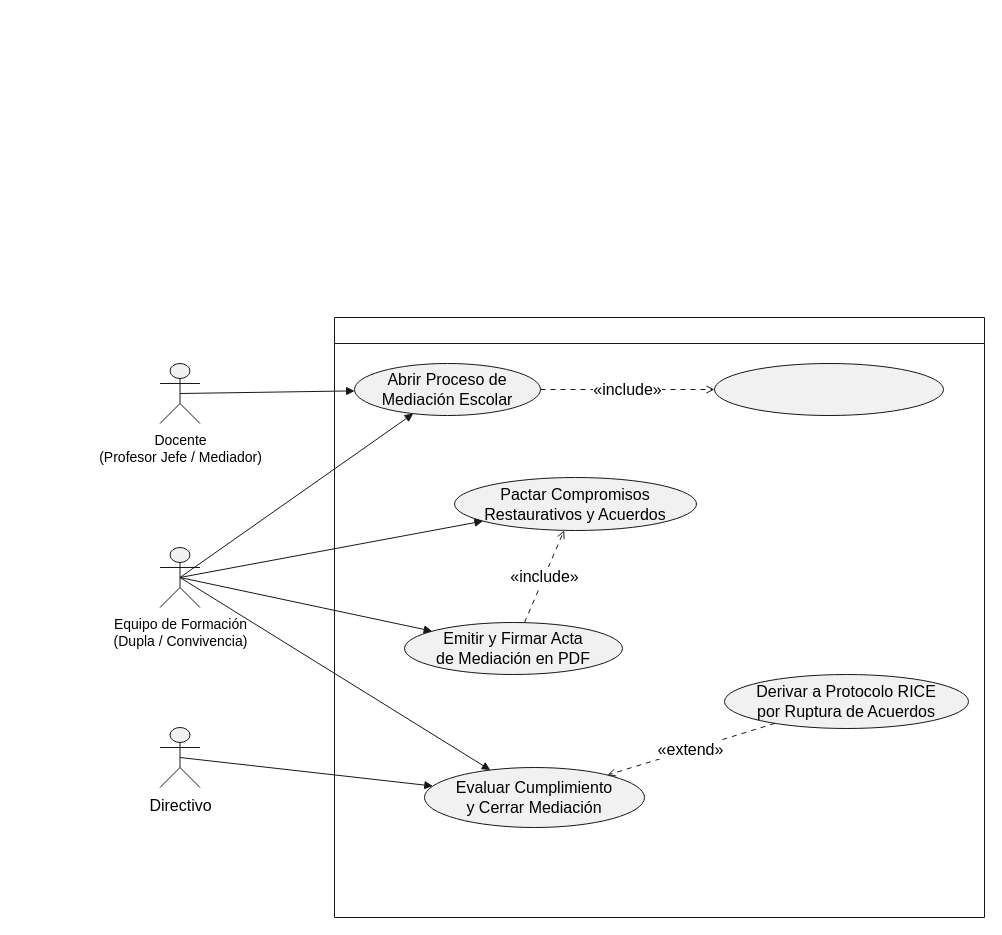
Some shapes in this 1002 by 935 pixel diagram are drawn without their labels. Each missing label, with the box of its shape:
SIGA Escolar: Mediación y Acuerdos Restaurativos: (334, 316, 984, 918)
Validar Vinculación de Estudiantes a Conflicto: (714, 362, 944, 416)
